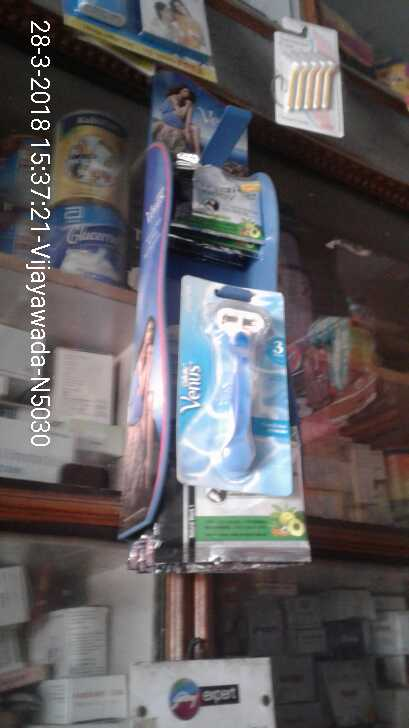venus: (175, 281, 299, 480)
